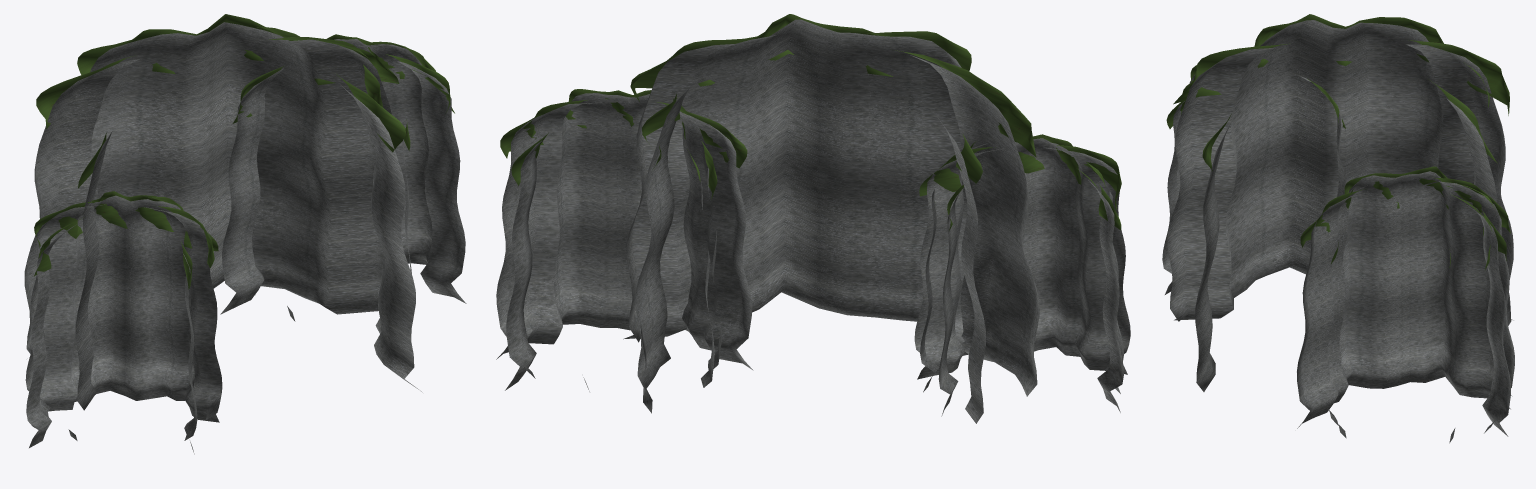
The model's file is karst-island-06.glb.
3 renders of one model, left to right at view 1: azimuth 30°, elevation 25°; view 2: azimuth 150°, elevation 25°; view 3: azimuth 270°, elevation 25°, orthographic. The views are drawn at different scales.
Parts seen in each view (by area): view 1: Cliff_LOD0, Canopy_LOD0; view 2: Cliff_LOD0, Canopy_LOD0; view 3: Cliff_LOD0, Canopy_LOD0.
Boxes of the visible parts, <box> form: Cliff_LOD0: <box>24,22,466,454</box>; Canopy_LOD0: <box>34,14,454,289</box>; Cliff_LOD0: <box>496,19,1130,423</box>; Canopy_LOD0: <box>500,14,1121,230</box>; Cliff_LOD0: <box>1162,20,1514,443</box>; Canopy_LOD0: <box>1166,14,1510,269</box>.
Size of what is drawn, in the model's own units: 509 by 306 by 336.
Materials: 2 (2 with a texture image).
